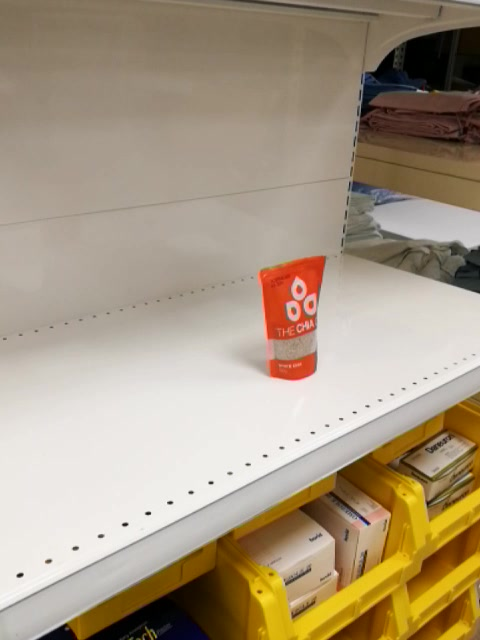whitechia: (256, 254, 329, 383)
